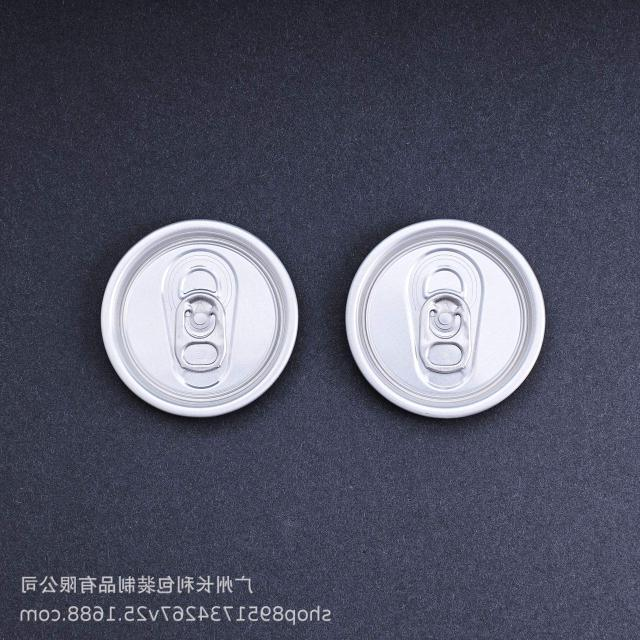can: (346, 220, 545, 418), (101, 220, 298, 417)
